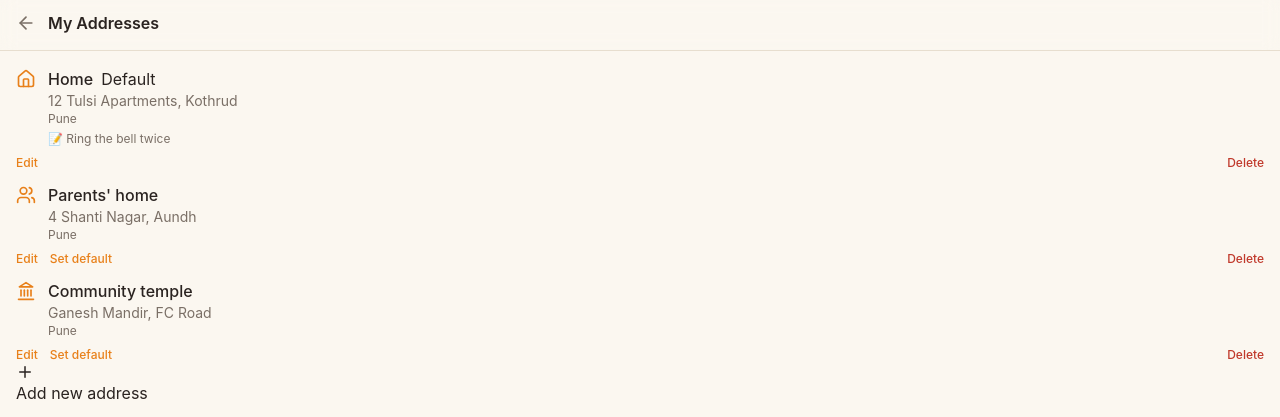
Scenario: AddressesListScreen › can delete an address
Click the 3rd button "Delete".
click(1246, 355)  # box [1227,347,1264,363]
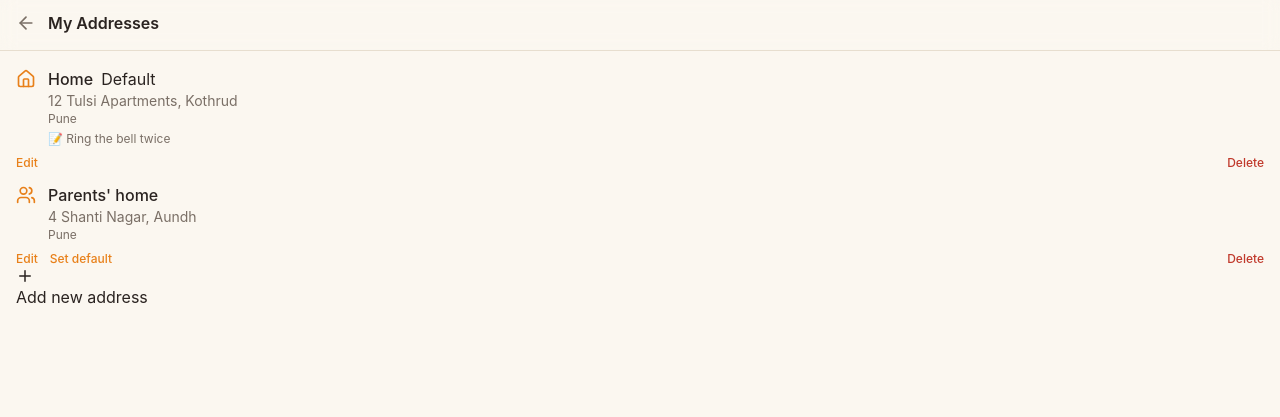
Result: the text "Community temple" is gone
